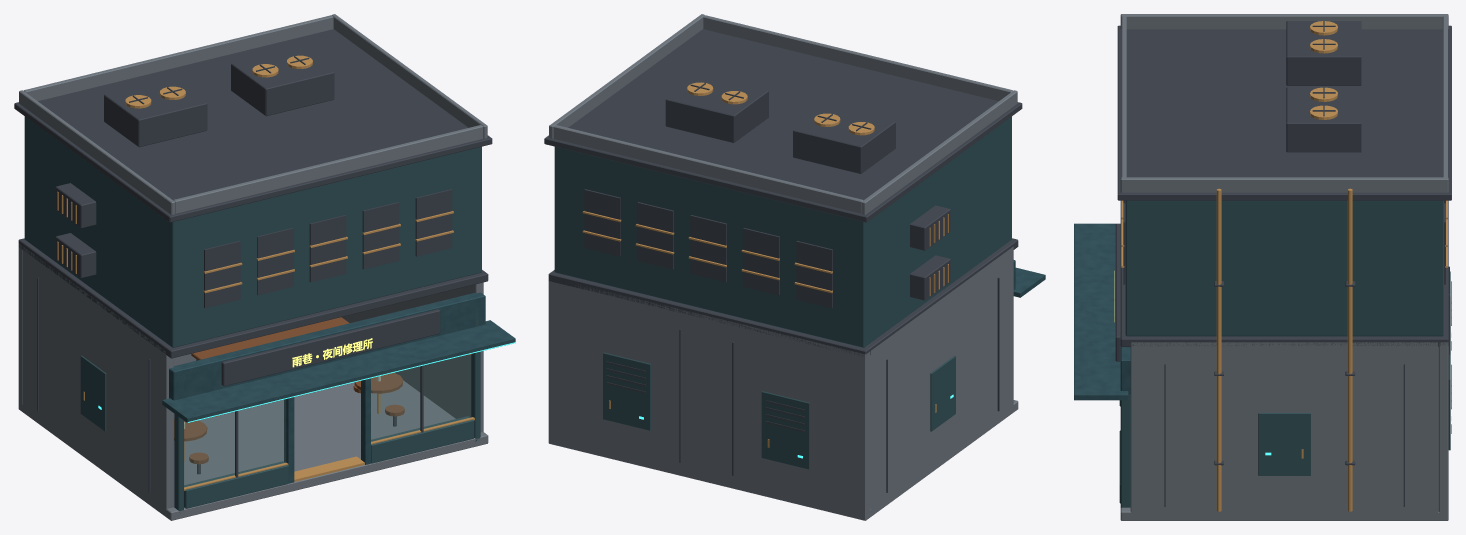
Rendered from workshop.glb.
3 renders of one model, left to right at view 1: azimuth 30°, elevation 25°; view 2: azimuth 150°, elevation 25°; view 3: azimuth 270°, elevation 25°, orthographic. The views are drawn at different scales.
Visible parts, largest first — view 1: 13_RainWorkshop_InteriorCandidate; view 2: 13_RainWorkshop_InteriorCandidate; view 3: 13_RainWorkshop_InteriorCandidate.
Part boxes in pixels (<box>): 13_RainWorkshop_InteriorCandidate: <box>14,14,515,520</box>; 13_RainWorkshop_InteriorCandidate: <box>544,14,1045,520</box>; 13_RainWorkshop_InteriorCandidate: <box>1074,14,1451,520</box>.
Size of the model in its own units: 12.67 by 12.18 by 11.53.
Materials: 12 (1 with a texture image).
